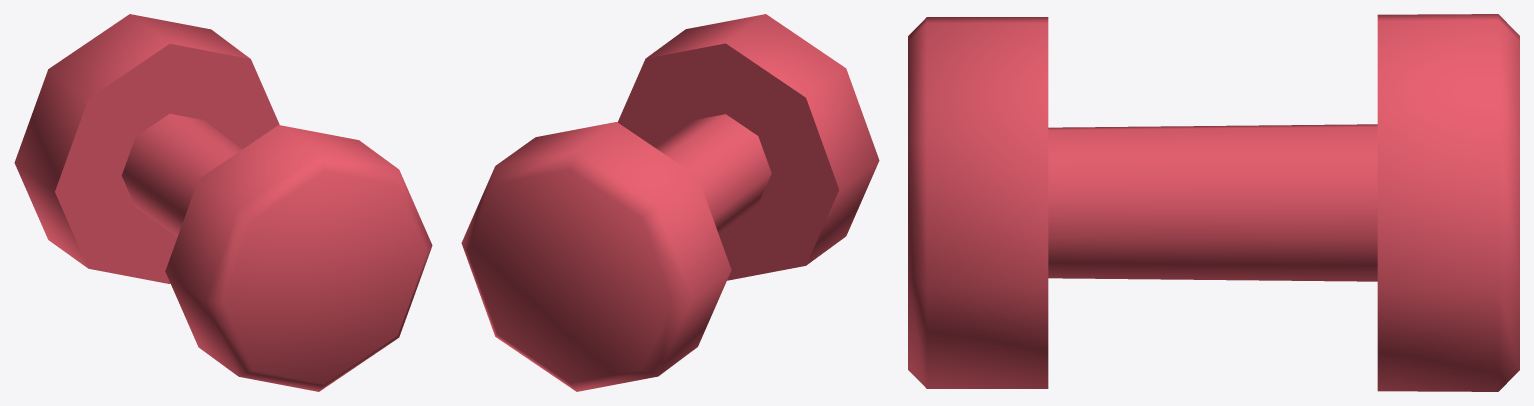
The model's file is SM_Dumbbell.fbx.
3 views of the same model, side by side, from view 1: azimuth 30°, elevation 25°; view 2: azimuth 150°, elevation 25°; view 3: azimuth 270°, elevation 25° (orthographic). The views are drawn at different scales.
Visible parts, largest first — view 1: mancuena; view 2: mancuena; view 3: mancuena.
Boxes of the visible parts, x1,y1,x2,y2 form: mancuena: (14, 14, 432, 391); mancuena: (461, 14, 879, 391); mancuena: (908, 14, 1519, 391).
Bounding box in the file's own units: 111 × 111 × 168.
